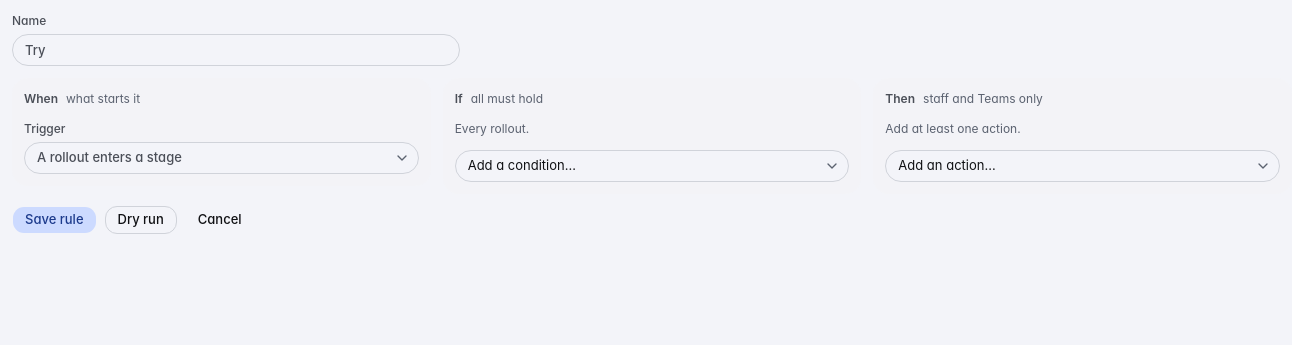
Test: RuleEditor › dry runs the rule as written and says what it replayed
Click the button "Dry run": x=141, y=220 [104, 206, 177, 234]
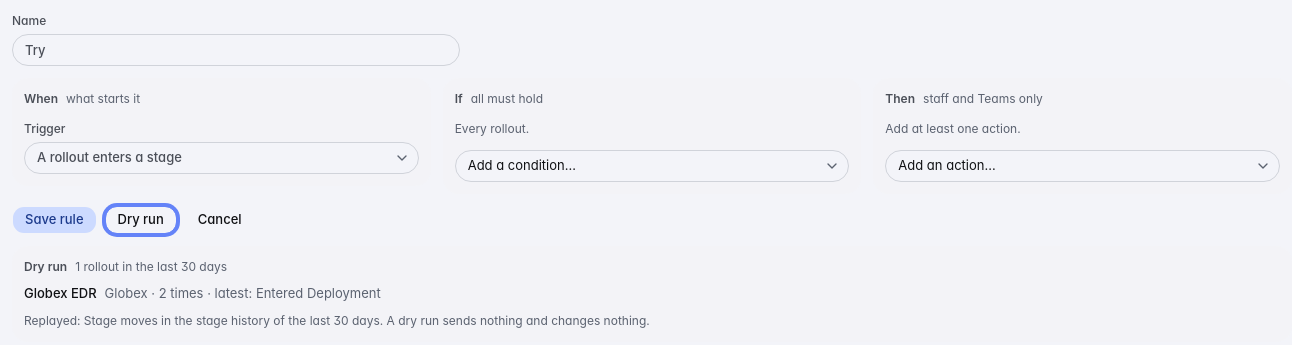
Now the text "Globex · 2 times · latest: Entered Deployment" is shown, box [105, 284, 381, 304]
Now the text "sends nothing and changes nothing" is shown, box [387, 312, 650, 328]
